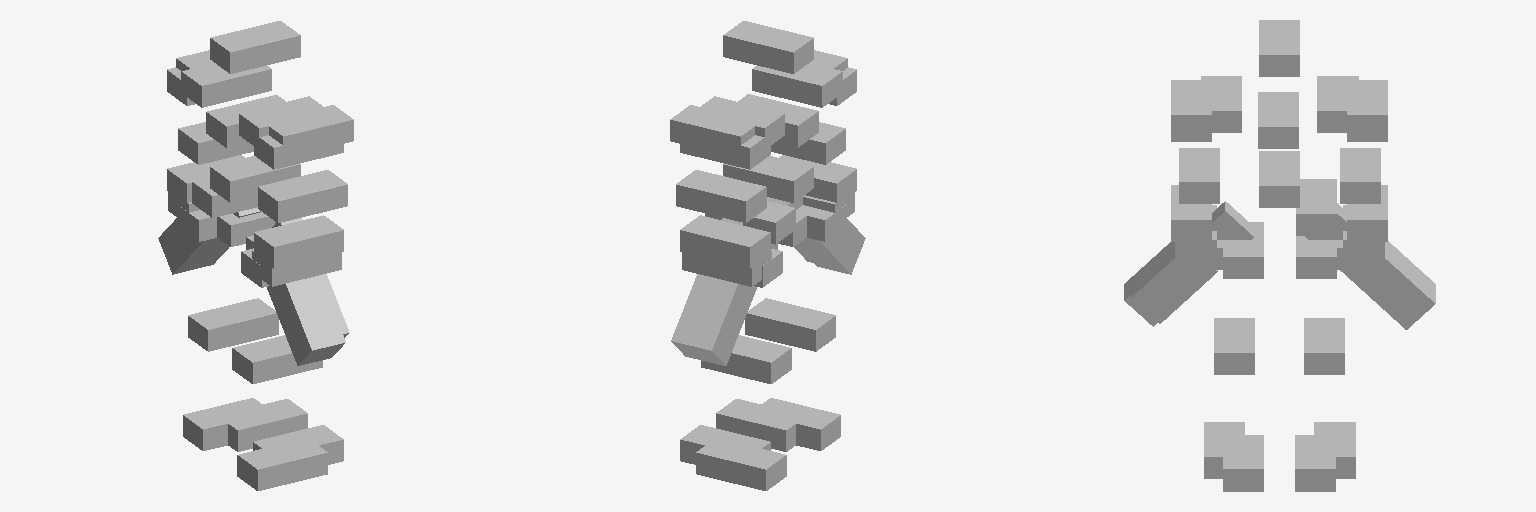
--- Facts derived from the render (not from the file) ---
The picture shows the robot from 3 angles, left to right: view 1: azimuth 30°, elevation 25°; view 2: azimuth 150°, elevation 25°; view 3: azimuth 270°, elevation 25°; orthographic projection.
Robot: huboplus — 61 links, 60 joints (57 revolute, 1 continuous, 2 fixed); root link World; default pose: every joint at zero.
Links seen in each view (by area): view 1: Body_HNP, Body_RAP, Body_LKP, Body_RWY, Body_REP, Body_LSP, Body_RKP, Body_Hip, Body_LAP, Body_LAR, Body_RSR, Body_RSY (+17 smaller); view 2: Body_LWY, Body_HNP, Body_LEP, Body_RKP, Body_LAP, Body_LSR, Body_RAR, Body_RSP, Body_LKP, Body_Hip, Body_RAP, Body_LSP (+17 smaller); view 3: rightIndexMedial, Body_Torso, Body_HNP, Body_Hip, Body_LKP, Body_RKP, Body_LEP, Body_REP, leftIndexProximal, Body_LHY, Body_RSR, Body_LSR (+15 smaller).
Boxes of the visible links, box(x1,y1,x2,y2) form: Body_HNP: box(210, 21, 300, 73); Body_RAP: box(237, 438, 327, 490); Body_LKP: box(188, 298, 278, 351); Body_RWY: box(254, 215, 343, 268); Body_REP: box(258, 170, 347, 222); Body_LSP: box(181, 66, 271, 107); Body_RKP: box(232, 335, 322, 383); Body_Hip: box(210, 156, 300, 202); Body_LAP: box(183, 398, 273, 450); Body_LAR: box(228, 399, 307, 451); Body_RSR: box(265, 105, 353, 155); Body_RSY: box(254, 131, 343, 169); Body_LWY: box(680, 215, 770, 268); Body_HNP: box(723, 21, 813, 73); Body_LEP: box(676, 170, 766, 222); Body_RKP: box(745, 298, 835, 351); Body_LAP: box(696, 438, 786, 490); Body_LSR: box(670, 105, 754, 157); Body_RAR: box(716, 399, 804, 451); Body_RSP: box(752, 66, 842, 107); Body_LKP: box(701, 335, 791, 383); Body_Hip: box(723, 156, 813, 202); Body_RAP: box(752, 398, 840, 450); Body_LSP: box(695, 96, 784, 149); rightIndexMedial: box(1131, 255, 1217, 323); Body_Torso: box(1258, 92, 1298, 148); Body_HNP: box(1259, 20, 1299, 76); Body_Hip: box(1259, 151, 1299, 207); Body_LKP: box(1304, 318, 1344, 374); Body_RKP: box(1214, 318, 1254, 374); Body_LEP: box(1340, 148, 1380, 203); Body_REP: box(1179, 148, 1219, 203); leftIndexProximal: box(1340, 248, 1419, 315); Body_LHY: box(1296, 179, 1336, 235); Body_RSR: box(1171, 80, 1211, 136); Body_LSR: box(1347, 80, 1387, 136).
Bounding box of the posed robot: 0.2834 × 0.7563 × 1.14 m (x, y, z).
Geometry: primitives only (box / cylinder / sphere), no mesh files.

URDF robot description (huboplus):
<?xml version="1.0" encoding="utf-8"?>
<!-- =================================================================================== -->
<!-- |    This document was autogenerated by xacro from huboplus.xacro                 | -->
<!-- |    EDITING THIS FILE BY HAND IS NOT RECOMMENDED                                 | -->
<!-- =================================================================================== -->
<robot name="huboplus">
    <link name="World">
        <inertial>
            <mass value = "0"/>
            <origin xyz = "0 0 0"/>
            <inertia ixx = "0" ixy = "0" ixz = "0" iyy = "0" iyz = "0" izz = "0"/>
        </inertial>
        <visual>
            <geometry>
                <box size="0.001 0.001 0.001" />
            </geometry>
        </visual>
    </link>
    <joint name="W2B" type="continuous">
        <axis xyz="0  0  1"/>
        <origin rpy="0 0 0" xyz="0 0 0"/>
        <parent link="World"/>
        <child link="Body_Torso"/>
    </joint>
  <link name="Body_Torso">
    <inertial>
      <mass value="7.50334"/>
      <inertia ixx="0.102019" ixy="2.45462e-05" ixz="0.00713022" iyy="0.0832724" iyz="-0.00131733" izz="0.086493"/>
      <origin xyz="0 0 0"/>
    </inertial>
    <visual>
      <geometry>
        <!--<mesh filename="meshes_hubo/Body_Torso_vis.stl"/>-->
        <box size="0.2 0.1 0.0591"/>
      </geometry>
      <material name="random">
        <color rgba="0.800000 0.800000 0.800000 1"/>
      </material>
    </visual>
    <!--<collision>-->
      <!--<geometry>-->
        <!--<mesh filename="meshes_hubo/Body_Torso_col.stl"/>-->
      <!--</geometry>-->
    <!--</collision>-->
  </link>
  <link name="Body_HNR">
</link>
  <link name="Body_HNP">
    <inertial>
      <mass value="0.374251"/>
      <inertia ixx="0.00164033" ixy="-1.08171e-07" ixz="-9.53978e-05" iyy="0.00153943" iyz="1.25376e-06" izz="0.00190393"/>
      <origin xyz="0.0106886 -3.00864e-05 0.032123"/>
    </inertial>
    <visual>
      <geometry>
        <box size="0.2 0.1 0.0591"/>
        <!--<mesh filename="meshes_hubo/Body_HNP_vis.stl"/>-->
      </geometry>
      <material name="random">
        <color rgba="0.800000 0.800000 0.800000 1"/>
      </material>
    </visual>
    <!--<collision>-->
      <!--<geometry>-->
        <!--<mesh filename="meshes_hubo/Body_HNP_col.stl"/>-->
      <!--</geometry>-->
    <!--</collision>-->
  </link>
  <link name="Body_LSP">
    <inertial>
      <mass value="0.646655"/>
      <inertia ixx="0.000893731" ixy="-0.000156484" ixz="4.98007e-07" iyy="0.00093016" iyz="1.57095e-07" izz="0.00124323"/>
      <origin xyz="0.0167207 0.0570407 9.91873e-06"/>
    </inertial>
    <visual>
      <geometry>
        <!--<mesh filename="meshes_hubo/Body_LSP_vis.stl"/>-->
        <box size="0.2 0.1 0.0591"/>
      </geometry>
      <material name="random">
        <color rgba="0.800000 0.800000 0.800000 1"/>
      </material>
    </visual>
    <!--<collision>-->
      <!--<geometry>-->
        <!--<mesh filename="meshes_hubo/Body_LSP_col.stl"/>-->
      <!--</geometry>-->
    <!--</collision>-->
  </link>
  <link name="Body_LSR">
    <inertial>
      <mass value="0.413368"/>
      <inertia ixx="0.000269283" ixy="4.52571e-07" ixz="3.23662e-06" iyy="0.00037679" iyz="9.93935e-07" izz="0.000360355"/>
      <origin xyz="-0.036208 -8.31243e-05 -0.00126685"/>
    </inertial>
    <visual>
      <geometry>
        <!--<mesh filename="meshes_hubo/Body_LSR_vis.stl"/>-->
        <box size="0.2 0.1 0.0591"/>
      </geometry>
      <material name="random">
        <color rgba="0.800000 0.800000 0.800000 1"/>
      </material>
    </visual>
    <!--<collision>-->
      <!--<geometry>-->
        <!--<mesh filename="meshes_hubo/Body_LSR_col.stl"/>-->
      <!--</geometry>-->
    <!--</collision>-->
  </link>
  <link name="Body_LSY">
    <inertial>
      <mass value="1.15461"/>
      <inertia ixx="0.00365479" ixy="2.05436e-06" ixz="0.000418448" iyy="0.00364731" iyz="-3.09648e-05" izz="0.00060633"/>
      <origin xyz="0.00456121 3.10576e-05 -0.0907824"/>
    </inertial>
    <visual>
      <geometry>
        <!--<mesh filename="meshes_hubo/Body_LSY_vis.stl"/>-->
        <box size="0.2 0.1 0.0591"/>
      </geometry>
      <material name="random">
        <color rgba="0.800000 0.800000 0.800000 1"/>
      </material>
    </visual>
    <!--<collision>-->
      <!--<geometry>-->
        <!--<mesh filename="meshes_hubo/Body_LSY_col.stl"/>-->
      <!--</geometry>-->
    <!--</collision>-->
  </link>
  <link name="Body_LEP">
    <inertial>
      <mass value="0.44094"/>
      <inertia ixx="0.0005027" ixy="3.64587e-06" ixz="-1.41388e-05" iyy="0.00049415" iyz="7.65528e-06" izz="0.000131786"/>
      <origin xyz="-0.0217349 0.0178314 -0.0610873"/>
    </inertial>
    <visual>
      <geometry>
        <!--<mesh filename="meshes_hubo/Body_LEP_vis.stl"/>-->
        <box size="0.2 0.1 0.0591"/>
      </geometry>
      <material name="random">
        <color rgba="0.800000 0.800000 0.800000 1"/>
      </material>
    </visual>
    <!--<collision>-->
      <!--<geometry>-->
        <!--<mesh filename="meshes_hubo/Body_LEP_col.stl"/>-->
      <!--</geometry>-->
    <!--</collision>-->
  </link>
  <link name="Body_LWY">
    <inertial>
      <mass value="0.537738"/>
      <inertia ixx="0.00063457" ixy="-4.62486e-07" ixz="6.20682e-06" iyy="0.000563918" iyz="3.54044e-05" izz="0.000305422"/>
      <origin xyz="-0.00122019 0.000635233 -0.0238043"/>
    </inertial>
    <visual>
      <geometry>
        <!--<mesh filename="meshes_hubo/Body_LWY_vis.stl"/>-->
        <box size="0.2 0.1 0.0591"/>
      </geometry>
      <material name="random">
        <color rgba="0.800000 0.800000 0.800000 1"/>
      </material>
    </visual>
    <!--<collision>-->
      <!--<geometry>-->
        <!--<mesh filename="meshes_hubo/Body_LWY_col.stl"/>-->
      <!--</geometry>-->
    <!--</collision>-->
  </link>
  <link name="Body_LWP">
    <inertial>
      <mass value="0.164393"/>
      <inertia ixx="9.74327e-05" ixy="-5.22155e-07" ixz="-1.17317e-06" iyy="0.000144494" iyz="9.4927e-06" izz="0.000122681"/>
      <origin xyz="-0.000258199 0.011442 -0.0461472"/>
    </inertial>
    <visual>
      <geometry>
        <!--<mesh filename="meshes_hubo/Body_LWP_vis.stl"/>-->
        <box size="0.2 0.1 0.0591"/>
      </geometry>
      <material name="random">
        <color rgba="0.800000 0.800000 0.800000 1"/>
      </material>
    </visual>
    <!--<collision>-->
      <!--<geometry>-->
        <!--<mesh filename="meshes_hubo/Body_LWP_col.stl"/>-->
      <!--</geometry>-->
    <!--</collision>-->
  </link>
  <link name="leftThumbProximal">
    <inertial>
      <mass value="0.096"/>
      <inertia ixx="2.304e-06" ixy="0" ixz="0" iyy="8.96e-06" iyz="6.85949e-15" izz="9.216e-06"/>
      <origin xyz="0.024 0 0"/>
    </inertial>
    <visual>
      <geometry>
        <!--<mesh filename="meshes_hubo/leftThumbProximal_vis.stl"/>-->
        <box size="0.2 0.1 0.0591"/>
      </geometry>
      <material name="random">
        <color rgba="0.800000 0.800000 0.800000 1"/>
      </material>
    </visual>
    <!--<collision>-->
      <!--<geometry>-->
        <!--<mesh filename="meshes_hubo/leftThumbProximal_vis.stl"/>-->
      <!--</geometry>-->
    <!--</collision>-->
  </link>
  <link name="leftThumbMedial">
    <inertial>
      <mass value="0.048"/>
      <inertia ixx="1.152e-06" ixy="0" ixz="0" iyy="2.59e-06" iyz="3.42975e-15" izz="2.718e-06"/>
      <origin xyz="0.0165 0 0"/>
    </inertial>
    <!--<visual>-->
      <!--<geometry>-->
        <!--<mesh filename="meshes_hubo/leftThumbMedial_vis.stl"/>-->
      <!--</geometry>-->
      <!--<material name="random">-->
        <!--<color rgba="0.800000 0.800000 0.800000 1"/>-->
      <!--</material>-->
    <!--</visual>-->
    <!--<collision>-->
      <!--<geometry>-->
        <!--<mesh filename="meshes_hubo/leftThumbMedial_vis.stl"/>-->
      <!--</geometry>-->
    <!--</collision>-->
  </link>
  <link name="leftThumbDistal">
    <inertial>
      <mass value="0.08"/>
      <inertia ixx="1.92e-06" ixy="0" ixz="0" iyy="3.82667e-06" iyz="5.71624e-15" izz="4.04e-06"/>
      <origin xyz="0.015 0 0"/>
    </inertial>
    <visual>
      <geometry>
        <!--<mesh filename="meshes_hubo/leftThumbDistal_vis.stl"/>-->
        <box size="0.2 0.1 0.0591"/>
      </geometry>
      <material name="random">
        <color rgba="0.800000 0.800000 0.800000 1"/>
      </material>
    </visual>
    <!--<collision>-->
      <!--<geometry>-->
        <!--<mesh filename="meshes_hubo/leftThumbDistal_vis.stl"/>-->
      <!--</geometry>-->
    <!--</collision>-->
  </link>
  <link name="leftPinkyProximal">
    <inertial>
      <mass value="0.096"/>
      <inertia ixx="2.304e-06" ixy="0" ixz="0" iyy="8.96e-06" iyz="6.85949e-15" izz="9.216e-06"/>
      <origin xyz="0.024 0 0"/>
    </inertial>
    <visual>
      <geometry>
        <!--<mesh filename="meshes_hubo/leftPinkyProximal_vis.stl"/>-->
        <box size="0.2 0.1 0.0591"/>
      </geometry>
      <material name="random">
        <color rgba="0.800000 0.800000 0.800000 1"/>
      </material>
    </visual>
    <!--<collision>-->
      <!--<geometry>-->
        <!--<mesh filename="meshes_hubo/leftPinkyProximal_vis.stl"/>-->
      <!--</geometry>-->
    <!--</collision>-->
  </link>
  <link name="leftPinkyMedial">
    <inertial>
      <mass value="0.048"/>
      <inertia ixx="1.152e-06" ixy="0" ixz="0" iyy="2.59e-06" iyz="3.42975e-15" izz="2.718e-06"/>
      <origin xyz="0.0165 0 0"/>
    </inertial>
    <visual>
      <geometry>
        <!--<mesh filename="meshes_hubo/leftPinkyMedial_vis.stl"/>-->
        <box size="0.2 0.1 0.0591"/>
      </geometry>
      <material name="random">
        <color rgba="0.800000 0.800000 0.800000 1"/>
      </material>
    </visual>
    <!--<collision>-->
      <!--<geometry>-->
        <!--<mesh filename="meshes_hubo/leftPinkyMedial_vis.stl"/>-->
      <!--</geometry>-->
    <!--</collision>-->
  </link>
  <link name="leftPinkyDistal">
    <inertial>
      <mass value="0.08"/>
      <inertia ixx="1.92e-06" ixy="0" ixz="0" iyy="3.82667e-06" iyz="5.71624e-15" izz="4.04e-06"/>
      <origin xyz="0.015 0 0"/>
    </inertial>
    <visual>
      <geometry>
        <!--<mesh filename="meshes_hubo/leftPinkyDistal_vis.stl"/>-->
        <box size="0.2 0.1 0.0591"/>
      </geometry>
      <material name="random">
        <color rgba="0.800000 0.800000 0.800000 1"/>
      </material>
    </visual>
    <!--<collision>-->
      <!--<geometry>-->
        <!--<mesh filename="meshes_hubo/leftPinkyDistal_vis.stl"/>-->
      <!--</geometry>-->
    <!--</collision>-->
  </link>
  <link name="leftRingProximal">
    <inertial>
      <mass value="0.096"/>
      <inertia ixx="2.304e-06" ixy="0" ixz="0" iyy="8.96e-06" iyz="6.85949e-15" izz="9.216e-06"/>
      <origin xyz="0.024 0 0"/>
    </inertial>
    <visual>
      <geometry>
        <!--<mesh filename="meshes_hubo/leftRingProximal_vis.stl"/>-->
        <box size="0.2 0.1 0.0591"/>
      </geometry>
      <material name="random">
        <color rgba="0.800000 0.800000 0.800000 1"/>
      </material>
    </visual>
    <!--<collision>-->
      <!--<geometry>-->
        <!--<mesh filename="meshes_hubo/leftRingProximal_vis.stl"/>-->
      <!--</geometry>-->
    <!--</collision>-->
  </link>
  <link name="leftRingMedial">
    <inertial>
      <mass value="0.048"/>
      <inertia ixx="1.152e-06" ixy="0" ixz="0" iyy="2.59e-06" iyz="3.42975e-15" izz="2.718e-06"/>
      <origin xyz="0.0165 0 0"/>
    </inertial>
    <visual>
      <geometry>
        <!--<mesh filename="meshes_hubo/leftRingMedial_vis.stl"/>-->
        <box size="0.2 0.1 0.0591"/>
      </geometry>
      <material name="random">
        <color rgba="0.800000 0.800000 0.800000 1"/>
      </material>
    </visual>
    <!--<collision>-->
      <!--<geometry>-->
        <!--<mesh filename="meshes_hubo/leftRingMedial_vis.stl"/>-->
      <!--</geometry>-->
    <!--</collision>-->
  </link>
  <link name="leftRingDistal">
    <inertial>
      <mass value="0.08"/>
      <inertia ixx="1.92e-06" ixy="0" ixz="0" iyy="3.82667e-06" iyz="5.71624e-15" izz="4.04e-06"/>
      <origin xyz="0.015 0 0"/>
    </inertial>
    <visual>
      <geometry>
        <!--<mesh filename="meshes_hubo/leftRingDistal_vis.stl"/>-->
        <box size="0.2 0.1 0.0591"/>
      </geometry>
      <material name="random">
        <color rgba="0.800000 0.800000 0.800000 1"/>
      </material>
    </visual>
    <!--<collision>-->
      <!--<geometry>-->
        <!--<mesh filename="meshes_hubo/leftRingDistal_vis.stl"/>-->
      <!--</geometry>-->
    <!--</collision>-->
  </link>
  <link name="leftMiddleProximal">
    <inertial>
      <mass value="0.096"/>
      <inertia ixx="2.304e-06" ixy="0" ixz="0" iyy="8.96e-06" iyz="6.85949e-15" izz="9.216e-06"/>
      <origin xyz="0.024 0 0"/>
    </inertial>
    <!--<visual>-->
      <!--<geometry>-->
        <!--<mesh filename="meshes_hubo/leftMiddleProximal_vis.stl"/>-->
      <!--</geometry>-->
      <!--<material name="random">-->
        <!--<color rgba="0.800000 0.800000 0.800000 1"/>-->
      <!--</material>-->
    <!--</visual>-->
    <!--<collision>-->
      <!--<geometry>-->
        <!--<mesh filename="meshes_hubo/leftMiddleProximal_vis.stl"/>-->
      <!--</geometry>-->
    <!--</collision>-->
  </link>
  <link name="leftMiddleMedial">
    <inertial>
      <mass value="0.048"/>
      <inertia ixx="1.152e-06" ixy="0" ixz="0" iyy="2.59e-06" iyz="3.42975e-15" izz="2.718e-06"/>
      <origin xyz="0.0165 0 0"/>
    </inertial>
    <visual>
      <geometry>
        <!--<mesh filename="meshes_hubo/leftMiddleMedial_vis.stl"/>-->
        <box size="0.2 0.1 0.0591"/>
      </geometry>
      <material name="random">
        <color rgba="0.800000 0.800000 0.800000 1"/>
      </material>
    </visual>
    <!--<collision>-->
      <!--<geometry>-->
        <!--<mesh filename="meshes_hubo/leftMiddleMedial_vis.stl"/>-->
      <!--</geometry>-->
    <!--</collision>-->
  </link>
  <link name="leftMiddleDistal">
    <inertial>
      <mass value="0.08"/>
      <inertia ixx="1.92e-06" ixy="0" ixz="0" iyy="3.82667e-06" iyz="5.71624e-15" izz="4.04e-06"/>
      <origin xyz="0.015 0 0"/>
    </inertial>
    <visual>
      <geometry>
        <!--<mesh filename="meshes_hubo/leftMiddleDistal_vis.stl"/>-->
        <box size="0.2 0.1 0.0591"/>
      </geometry>
      <material name="random">
        <color rgba="0.800000 0.800000 0.800000 1"/>
      </material>
    </visual>
    <!--<collision>-->
      <!--<geometry>-->
        <!--<mesh filename="meshes_hubo/leftMiddleDistal_vis.stl"/>-->
      <!--</geometry>-->
    <!--</collision>-->
  </link>
  <link name="leftIndexProximal">
    <inertial>
      <mass value="0.096"/>
      <inertia ixx="2.304e-06" ixy="0" ixz="0" iyy="8.96e-06" iyz="6.85949e-15" izz="9.216e-06"/>
      <origin xyz="0.024 0 0"/>
    </inertial>
    <visual>
      <geometry>
        <!--<mesh filename="meshes_hubo/leftIndexProximal_vis.stl"/>-->
        <box size="0.2 0.1 0.0591"/>
      </geometry>
      <material name="random">
        <color rgba="0.800000 0.800000 0.800000 1"/>
      </material>
    </visual>
    <!--<collision>-->
      <!--<geometry>-->
        <!--<mesh filename="meshes_hubo/leftIndexProximal_vis.stl"/>-->
      <!--</geometry>-->
    <!--</collision>-->
  </link>
  <link name="leftIndexMedial">
    <inertial>
      <mass value="0.048"/>
      <inertia ixx="1.152e-06" ixy="0" ixz="0" iyy="2.59e-06" iyz="3.42975e-15" izz="2.718e-06"/>
      <origin xyz="0.0165 0 0"/>
    </inertial>
    <visual>
      <geometry>
        <!--<mesh filename="meshes_hubo/leftIndexMedial_vis.stl"/>-->
        <box size="0.2 0.1 0.0591"/>
      </geometry>
      <material name="random">
        <color rgba="0.800000 0.800000 0.800000 1"/>
      </material>
    </visual>
    <!--<collision>-->
      <!--<geometry>-->
        <!--<mesh filename="meshes_hubo/leftIndexMedial_vis.stl"/>-->
      <!--</geometry>-->
    <!--</collision>-->
  </link>
  <link name="leftIndexDistal">
    <inertial>
      <mass value="0.08"/>
      <inertia ixx="1.92e-06" ixy="0" ixz="0" iyy="3.82667e-06" iyz="5.71624e-15" izz="4.04e-06"/>
      <origin xyz="0.015 0 0"/>
    </inertial>
    <visual>
      <geometry>
        <!--<mesh filename="meshes_hubo/leftIndexDistal_vis.stl"/>-->
        <box size="0.2 0.1 0.0591"/>
      </geometry>
      <material name="random">
        <color rgba="0.800000 0.800000 0.800000 1"/>
      </material>
    </visual>
    <!--<collision>-->
      <!--<geometry>-->
        <!--<mesh filename="meshes_hubo/leftIndexDistal_vis.stl"/>-->
      <!--</geometry>-->
    <!--</collision>-->
  </link>
  <link name="Body_RSP">
    <inertial>
      <mass value="0.646655"/>
      <inertia ixx="0.000893731" ixy="0.000156484" ixz="4.98007e-07" iyy="0.00093016" iyz="-1.57095e-07" izz="0.00124323"/>
      <origin xyz="0.0167207 -0.0570407 9.91873e-06"/>
    </inertial>
    <visual>
      <geometry>
        <!--<mesh filename="meshes_hubo/Body_RSP_vis.stl"/>-->
        <box size="0.2 0.1 0.0591"/>
      </geometry>
      <material name="random">
        <color rgba="0.800000 0.800000 0.800000 1"/>
      </material>
    </visual>
    <!--<collision>-->
      <!--<geometry>-->
        <!--<mesh filename="meshes_hubo/Body_RSP_col.stl"/>-->
      <!--</geometry>-->
    <!--</collision>-->
  </link>
  <link name="Body_RSR">
    <inertial>
      <mass value="0.413368"/>
      <inertia ixx="0.000269283" ixy="-4.52571e-07" ixz="3.23662e-06" iyy="0.00037679" iyz="-9.93935e-07" izz="0.000360355"/>
      <origin xyz="-0.036208 8.31243e-05 -0.00126685"/>
    </inertial>
    <visual>
      <geometry>
        <!--<mesh filename="meshes_hubo/Body_RSR_vis.stl"/>-->
        <box size="0.2 0.1 0.0591"/>
      </geometry>
      <material name="random">
        <color rgba="0.800000 0.800000 0.800000 1"/>
      </material>
    </visual>
    <!--<collision>-->
      <!--<geometry>-->
        <!--<mesh filename="meshes_hubo/Body_RSR_col.stl"/>-->
      <!--</geometry>-->
    <!--</collision>-->
  </link>
  <link name="Body_RSY">
    <inertial>
      <mass value="1.15461"/>
      <inertia ixx="0.00365479" ixy="-2.05436e-06" ixz="0.000418448" iyy="0.00364731" iyz="3.09648e-05" izz="0.00060633"/>
      <origin xyz="0.00456121 -3.10576e-05 -0.0907824"/>
    </inertial>
    <visual>
      <geometry>
        <!--<mesh filename="meshes_hubo/Body_RSY_vis.stl"/>-->
        <box size="0.2 0.1 0.0591"/>
      </geometry>
      <material name="random">
        <color rgba="0.800000 0.800000 0.800000 1"/>
      </material>
    </visual>
    <!--<collision>-->
      <!--<geometry>-->
        <!--<mesh filename="meshes_hubo/Body_RSY_col.stl"/>-->
      <!--</geometry>-->
    <!--</collision>-->
  </link>
  <link name="Body_REP">
    <inertial>
      <mass value="0.44094"/>
      <inertia ixx="0.0005027" ixy="-3.64587e-06" ixz="-1.41388e-05" iyy="0.00049415" iyz="-7.65528e-06" izz="0.000131786"/>
      <origin xyz="-0.0217349 -0.0178314 -0.0610873"/>
    </inertial>
    <visual>
      <geometry>
        <!--<mesh filename="meshes_hubo/Body_REP_vis.stl"/>-->
        <box size="0.2 0.1 0.0591"/>
      </geometry>
      <material name="random">
        <color rgba="0.800000 0.800000 0.800000 1"/>
      </material>
    </visual>
    <!--<collision>-->
      <!--<geometry>-->
        <!--<mesh filename="meshes_hubo/Body_REP_col.stl"/>-->
      <!--</geometry>-->
    <!--</collision>-->
  </link>
  <link name="Body_RWY">
    <inertial>
      <mass value="0.537738"/>
      <inertia ixx="0.00063457" ixy="4.62486e-07" ixz="6.20682e-06" iyy="0.000563918" iyz="-3.54044e-05" izz="0.000305422"/>
      <origin xyz="-0.00122019 -0.000635233 -0.0238043"/>
    </inertial>
    <visual>
      <geometry>
        <!--<mesh filename="meshes_hubo/Body_RWY_vis.stl"/>-->
        <box size="0.2 0.1 0.0591"/>
      </geometry>
      <material name="random">
        <color rgba="0.800000 0.800000 0.800000 1"/>
      </material>
    </visual>
    <!--<collision>-->
      <!--<geometry>-->
        <!--<mesh filename="meshes_hubo/Body_RWY_col.stl"/>-->
      <!--</geometry>-->
    <!--</collision>-->
  </link>
  <link name="Body_RWP">
    <inertial>
      <mass value="0.164393"/>
      <inertia ixx="9.74327e-05" ixy="5.22155e-07" ixz="-1.17317e-06" iyy="0.000144494" iyz="-9.4927e-06" izz="0.000122681"/>
      <origin xyz="-0.000258199 -0.011442 -0.0461472"/>
    </inertial>
    <visual>
      <geometry>
        <!--<mesh filename="meshes_hubo/Body_RWP_vis.stl"/>-->
        <box size="0.2 0.1 0.0591"/>
      </geometry>
      <material name="random">
        <color rgba="0.800000 0.800000 0.800000 1"/>
      </material>
    </visual>
    <!--<collision>-->
      <!--<geometry>-->
        <!--<mesh filename="meshes_hubo/Body_RWP_col.stl"/>-->
      <!--</geometry>-->
    <!--</collision>-->
  </link>
  <link name="rightThumbProximal">
    <inertial>
      <mass value="0.096"/>
      <inertia ixx="2.304e-06" ixy="0" ixz="0" iyy="8.96e-06" iyz="6.85949e-15" izz="9.216e-06"/>
      <origin xyz="0.024 0 0"/>
    </inertial>
    <!--<visual>-->
      <!--<geometry>-->
        <!--<mesh filename="meshes_hubo/rightThumbProximal_vis.stl"/>-->
      <!--</geometry>-->
      <!--<material name="random">-->
        <!--<color rgba="0.800000 0.800000 0.800000 1"/>-->
      <!--</material>-->
    <!--</visual>-->
    <!--<collision>-->
      <!--<geometry>-->
        <!--<mesh filename="meshes_hubo/rightThumbProximal_vis.stl"/>-->
      <!--</geometry>-->
    <!--</collision>-->
  </link>
  <link name="rightThumbMedial">
    <inertial>
      <mass value="0.048"/>
      <inertia ixx="1.152e-06" ixy="0" ixz="0" iyy="2.59e-06" iyz="3.42975e-15" izz="2.718e-06"/>
      <origin xyz="0.0165 0 0"/>
    </inertial>
    <!--<visual>-->
      <!--<geometry>-->
        <!--<mesh filename="meshes_hubo/rightThumbMedial_vis.stl"/>-->
      <!--</geometry>-->
      <!--<material name="random">-->
        <!--<color rgba="0.800000 0.800000 0.800000 1"/>-->
      <!--</material>-->
    <!--</visual>-->
    <!--<collision>-->
      <!--<geometry>-->
        <!--<mesh filename="meshes_hubo/rightThumbMedial_vis.stl"/>-->
      <!--</geometry>-->
    <!--</collision>-->
  </link>
  <link name="rightThumbDistal">
    <inertial>
      <mass value="0.08"/>
      <inertia ixx="1.92e-06" ixy="0" ixz="0" iyy="3.82667e-06" iyz="5.71624e-15" izz="4.04e-06"/>
      <origin xyz="0.015 0 0"/>
    </inertial>
    <visual>
      <geometry>
        <!--<mesh filename="meshes_hubo/rightThumbDistal_vis.stl"/>-->
        <box size="0.2 0.1 0.0591"/>
      </geometry>
      <material name="random">
        <color rgba="0.800000 0.800000 0.800000 1"/>
      </material>
    </visual>
    <!--<collision>-->
      <!--<geometry>-->
        <!--<mesh filename="meshes_hubo/rightThumbDistal_vis.stl"/>-->
      <!--</geometry>-->
    <!--</collision>-->
  </link>
  <link name="rightPinkyProximal">
    <inertial>
      <mass value="0.096"/>
      <inertia ixx="2.304e-06" ixy="0" ixz="0" iyy="8.96e-06" iyz="6.85949e-15" izz="9.216e-06"/>
      <origin xyz="0.024 0 0"/>
    </inertial>
    <visual>
      <geometry>
        <!--<mesh filename="meshes_hubo/rightPinkyProximal_vis.stl"/>-->
        <box size="0.2 0.1 0.0591"/>
      </geometry>
      <material name="random">
        <color rgba="0.800000 0.800000 0.800000 1"/>
      </material>
    </visual>
    <!--<collision>-->
      <!--<geometry>-->
        <!--<mesh filename="meshes_hubo/rightPinkyProximal_vis.stl"/>-->
      <!--</geometry>-->
    <!--</collision>-->
  </link>
  <link name="rightPinkyMedial">
    <inertial>
      <mass value="0.048"/>
      <inertia ixx="1.152e-06" ixy="0" ixz="0" iyy="2.59e-06" iyz="3.42975e-15" izz="2.718e-06"/>
      <origin xyz="0.0165 0 0"/>
    </inertial>
    <visual>
      <geometry>
        <!--<mesh filename="meshes_hubo/rightPinkyMedial_vis.stl"/>-->
        <box size="0.2 0.1 0.0591"/>
      </geometry>
      <material name="random">
        <color rgba="0.800000 0.800000 0.800000 1"/>
      </material>
    </visual>
    <!--<collision>-->
      <!--<geometry>-->
        <!--<mesh filename="meshes_hubo/rightPinkyMedial_vis.stl"/>-->
      <!--</geometry>-->
    <!--</collision>-->
  </link>
  <link name="rightPinkyDistal">
    <inertial>
      <mass value="0.08"/>
      <inertia ixx="1.92e-06" ixy="0" ixz="0" iyy="3.82667e-06" iyz="5.71624e-15" izz="4.04e-06"/>
      <origin xyz="0.015 0 0"/>
    </inertial>
    <visual>
      <geometry>
        <box size="0.2 0.1 0.0591"/>
        <!--<mesh filename="meshes_hubo/rightPinkyDistal_vis.stl"/>-->
      </geometry>
      <material name="random">
        <color rgba="0.800000 0.800000 0.800000 1"/>
      </material>
    </visual>
    <!--<collision>-->
      <!--<geometry>-->
        <!--<mesh filename="meshes_hubo/rightPinkyDistal_vis.stl"/>-->
      <!--</geometry>-->
    <!--</collision>-->
  </link>
  <link name="rightRingProximal">
    <inertial>
      <mass value="0.096"/>
      <inertia ixx="2.304e-06" ixy="0" ixz="0" iyy="8.96e-06" iyz="6.85949e-15" izz="9.216e-06"/>
      <origin xyz="0.024 0 0"/>
    </inertial>
    <!--<visual>-->
      <!--<geometry>-->
        <!--<mesh filename="meshes_hubo/rightRingProximal_vis.stl"/>-->
      <!--</geometry>-->
      <!--<material name="random">-->
        <!--<color rgba="0.800000 0.800000 0.800000 1"/>-->
      <!--</material>-->
    <!--</visual>-->
    <!--<collision>-->
      <!--<geometry>-->
        <!--<mesh filename="meshes_hubo/rightRingProximal_vis.stl"/>-->
      <!--</geometry>-->
    <!--</collision>-->
  </link>
  <link name="rightRingMedial">
    <inertial>
      <mass value="0.048"/>
      <inertia ixx="1.152e-06" ixy="0" ixz="0" iyy="2.59e-06" iyz="3.42975e-15" izz="2.718e-06"/>
      <origin xyz="0.0165 0 0"/>
    </inertial>
    <visual>
      <geometry>
        <!--<mesh filename="meshes_hubo/rightRingMedial_vis.stl"/>-->
        <box size="0.2 0.1 0.0591"/>
      </geometry>
      <material name="random">
        <color rgba="0.800000 0.800000 0.800000 1"/>
      </material>
    </visual>
    <!--<collision>-->
      <!--<geometry>-->
        <!--<mesh filename="meshes_hubo/rightRingMedial_vis.stl"/>-->
      <!--</geometry>-->
    <!--</collision>-->
  </link>
  <link name="rightRingDistal">
    <inertial>
      <mass value="0.08"/>
      <inertia ixx="1.92e-06" ixy="0" ixz="0" iyy="3.82667e-06" iyz="5.71624e-15" izz="4.04e-06"/>
      <origin xyz="0.015 0 0"/>
    </inertial>
    <visual>
      <geometry>
        <!--<mesh filename="meshes_hubo/rightRingDistal_vis.stl"/>-->
        <box size="0.2 0.1 0.0591"/>
      </geometry>
      <material name="random">
        <color rgba="0.800000 0.800000 0.800000 1"/>
      </material>
    </visual>
    <!--<collision>-->
      <!--<geometry>-->
        <!--<mesh filename="meshes_hubo/rightRingDistal_vis.stl"/>-->
      <!--</geometry>-->
    <!--</collision>-->
  </link>
  <link name="rightMiddleProximal">
    <inertial>
      <mass value="0.096"/>
      <inertia ixx="2.304e-06" ixy="0" ixz="0" iyy="8.96e-06" iyz="6.85949e-15" izz="9.216e-06"/>
      <origin xyz="0.024 0 0"/>
    </inertial>
    <visual>
      <geometry>
        <!--<mesh filename="meshes_hubo/rightMiddleProximal_vis.stl"/>-->
        <box size="0.2 0.1 0.0591"/>
      </geometry>
      <material name="random">
        <color rgba="0.800000 0.800000 0.800000 1"/>
      </material>
    </visual>
    <!--<collision>-->
      <!--<geometry>-->
        <!--<mesh filename="meshes_hubo/rightMiddleProximal_vis.stl"/>-->
      <!--</geometry>-->
    <!--</collision>-->
  </link>
  <link name="rightMiddleMedial">
    <inertial>
      <mass value="0.048"/>
      <inertia ixx="1.152e-06" ixy="0" ixz="0" iyy="2.59e-06" iyz="3.42975e-15" izz="2.718e-06"/>
      <origin xyz="0.0165 0 0"/>
    </inertial>
    <visual>
      <geometry>
        <!--<mesh filename="meshes_hubo/rightMiddleMedial_vis.stl"/>-->
        <box size="0.2 0.1 0.0591"/>
      </geometry>
      <material name="random">
        <color rgba="0.800000 0.800000 0.800000 1"/>
      </material>
    </visual>
    <!--<collision>-->
      <!--<geometry>-->
        <!--<mesh filename="meshes_hubo/rightMiddleMedial_vis.stl"/>-->
      <!--</geometry>-->
    <!--</collision>-->
  </link>
  <link name="rightMiddleDistal">
    <inertial>
      <mass value="0.08"/>
      <inertia ixx="1.92e-06" ixy="0" ixz="0" iyy="3.82667e-06" iyz="5.71624e-15" izz="4.04e-06"/>
      <origin xyz="0.015 0 0"/>
    </inertial>
    <visual>
      <geometry>
        <!--<mesh filename="meshes_hubo/rightMiddleDistal_vis.stl"/>-->
        <box size="0.2 0.1 0.0591"/>
      </geometry>
      <material name="random">
        <color rgba="0.800000 0.800000 0.800000 1"/>
      </material>
    </visual>
    <!--<collision>-->
      <!--<geometry>-->
        <!--<mesh filename="meshes_hubo/rightMiddleDistal_vis.stl"/>-->
      <!--</geometry>-->
    <!--</collision>-->
  </link>
  <link name="rightIndexProximal">
    <inertial>
      <mass value="0.096"/>
      <inertia ixx="2.304e-06" ixy="0" ixz="0" iyy="8.96e-06" iyz="6.85949e-15" izz="9.216e-06"/>
      <origin xyz="0.024 0 0"/>
    </inertial>
    <!--<visual>-->
      <!--<geometry>-->
        <!--<mesh filename="meshes_hubo/rightIndexProximal_vis.stl"/>-->
      <!--</geometry>-->
      <!--<material name="random">-->
        <!--<color rgba="0.800000 0.800000 0.800000 1"/>-->
      <!--</material>-->
    <!--</visual>-->
    <!--<collision>-->
      <!--<geometry>-->
        <!--<mesh filename="meshes_hubo/rightIndexProximal_vis.stl"/>-->
      <!--</geometry>-->
    <!--</collision>-->
  </link>
  <link name="rightIndexMedial">
    <inertial>
      <mass value="0.048"/>
      <inertia ixx="1.152e-06" ixy="0" ixz="0" iyy="2.59e-06" iyz="3.42975e-15" izz="2.718e-06"/>
      <origin xyz="0.0165 0 0"/>
    </inertial>
    <visual>
      <geometry>
        <!--<mesh filename="meshes_hubo/rightIndexMedial_vis.stl"/>-->
        <box size="0.2 0.1 0.0591"/>
      </geometry>
      <material name="random">
        <color rgba="0.800000 0.800000 0.800000 1"/>
      </material>
    </visual>
    <!--<collision>-->
      <!--<geometry>-->
        <!--<mesh filename="meshes_hubo/rightIndexMedial_vis.stl"/>-->
      <!--</geometry>-->
    <!--</collision>-->
  </link>
  <link name="rightIndexDistal">
    <inertial>
      <mass value="0.08"/>
      <inertia ixx="1.92e-06" ixy="0" ixz="0" iyy="3.82667e-06" iyz="5.71624e-15" izz="4.04e-06"/>
      <origin xyz="0.015 0 0"/>
    </inertial>
    <!--<visual>-->
      <!--<geometry>-->
        <!--<mesh filename="meshes_hubo/rightIndexDistal_vis.stl"/>-->
      <!--</geometry>-->
      <!--<material name="random">-->
        <!--<color rgba="0.800000 0.800000 0.800000 1"/>-->
      <!--</material>-->
    <!--</visual>-->
    <!--<collision>-->
      <!--<geometry>-->
        <!--<mesh filename="meshes_hubo/rightIndexDistal_vis.stl"/>-->
      <!--</geometry>-->
    <!--</collision>-->
  </link>
  <link name="Body_Hip">
    <inertial>
      <mass value="3.41719"/>
      <inertia ixx="0.0180349" ixy="3.17531e-05" ixz="-0.000513489" iyy="0.00912382" iyz="-6.90617e-05" izz="0.0220514"/>
      <origin xyz="-0.0138504 7.80652e-06 -0.0354613"/>
    </inertial>
    <visual>
      <geometry>
        <!--<mesh filename="meshes_hubo/Body_Hip_vis.stl"/>-->
        <box size="0.2 0.1 0.0591"/>
      </geometry>
      <material name="random">
        <color rgba="0.800000 0.800000 0.800000 1"/>
      </material>
    </visual>
    <!--<collision>-->
      <!--<geometry>-->
        <!--<mesh filename="meshes_hubo/Body_Hip_col.stl"/>-->
      <!--</geometry>-->
    <!--</collision>-->
  </link>
  <link name="Body_LHY">
    <inertial>
      <mass value="0.826125"/>
      <inertia ixx="0.00151818" ixy="2.13586e-06" ixz="0.000434128" iyy="0.00286333" iyz="-1.57525e-07" izz="0.00211437"/>
      <origin xyz="0.0347065 3.748e-05 -0.0726153"/>
    </inertial>
    <visual>
      <geometry>
        <!--<mesh filename="meshes_hubo/Body_LHY_vis.stl"/>-->
        <box size="0.2 0.1 0.0591"/>
      </geometry>
      <material name="random">
        <color rgba="0.800000 0.800000 0.800000 1"/>
      </material>
    </visual>
    <!--<collision>-->
      <!--<geometry>-->
        <!--<mesh filename="meshes_hubo/Body_LHY_col.stl"/>-->
      <!--</geometry>-->
    <!--</collision>-->
  </link>
  <link name="Body_LHR">
    <inertial>
      <mass value="1.93266"/>
      <inertia ixx="0.00403487" ixy="7.9452e-05" ixz="-0.000125343" iyy="0.00332707" iyz="-0.000551964" izz="0.00317173"/>
      <origin xyz="-0.0497479 0.0125311 -0.0156437"/>
    </inertial>
    <visual>
      <geometry>
        <!--<mesh filename="meshes_hubo/Body_LHR_vis.stl"/>-->
        <box size="0.2 0.1 0.0591"/>
      </geometry>
      <material name="random">
        <color rgba="0.800000 0.800000 0.800000 1"/>
      </material>
    </visual>
    <!--<collision>-->
      <!--<geometry>-->
        <!--<mesh filename="meshes_hubo/Body_LHR_col.stl"/>-->
      <!--</geometry>-->
    <!--</collision>-->
  </link>
  <link name="Body_LHP">
    <inertial>
      <mass value="2.8201"/>
      <inertia ixx="0.0295102" ixy="0.000184399" ixz="-0.000370291" iyy="0.0273771" iyz="0.00065658" izz="0.00838035"/>
      <origin xyz="0.0195049 -0.0595775 -0.175202"/>
    </inertial>
    <visual>
      <geometry>
        <!--<mesh filename="meshes_hubo/Body_LHP_vis.stl"/>-->
        <box size="0.2 0.1 0.0591"/>
      </geometry>
      <material name="random">
        <color rgba="0.800000 0.800000 0.800000 1"/>
      </material>
    </visual>
    <!--<collision>-->
      <!--<geometry>-->
        <!--<mesh filename="meshes_hubo/Body_LHP_col.stl"/>-->
      <!--</geometry>-->
    <!--</collision>-->
  </link>
  <link name="Body_LKP">
    <inertial>
      <mass value="1.80912"/>
      <inertia ixx="0.0232156" ixy="0.000251648" ixz="-0.00129343" iyy="0.0208342" iyz="0.00278068" izz="0.0059204"/>
      <origin xyz="0.0128254 -0.00727567 -0.171431"/>
    </inertial>
    <visual>
      <geometry>
        <!--<mesh filename="meshes_hubo/Body_LKP_vis.stl"/>-->
        <box size="0.2 0.1 0.0591"/>
      </geometry>
      <material name="random">
        <color rgba="0.800000 0.800000 0.800000 1"/>
      </material>
    </visual>
    <!--<collision>-->
      <!--<geometry>-->
        <!--<mesh filename="meshes_hubo/Body_LKP_col.stl"/>-->
      <!--</geometry>-->
    <!--</collision>-->
  </link>
  <link name="Body_LAP">
    <inertial>
      <mass value="1.63501"/>
      <inertia ixx="0.00231659" ixy="1.87402e-05" ixz="0.000369899" iyy="0.00330411" iyz="6.38153e-05" izz="0.00279495"/>
      <origin xyz="0.0198702 -0.0459693 0.0115069"/>
    </inertial>
    <visual>
      <geometry>
        <!--<mesh filename="meshes_hubo/Body_LAP_vis.stl"/>-->
        <box size="0.2 0.1 0.0591"/>
      </geometry>
      <material name="random">
        <color rgba="0.800000 0.800000 0.800000 1"/>
      </material>
    </visual>
    <!--<collision>-->
      <!--<geometry>-->
        <!--<mesh filename="meshes_hubo/Body_LAP_col.stl"/>-->
      <!--</geometry>-->
    <!--</collision>-->
  </link>
  <link name="Body_LAR">
    <inertial>
      <mass value="1.20318"/>
      <inertia ixx="0.00295183" ixy="3.23211e-05" ixz="0.000141769" iyy="0.00524792" iyz="5.95404e-05" izz="0.00516817"/>
      <origin xyz="-0.0515094 0.00216398 -0.0693881"/>
    </inertial>
    <visual>
      <geometry>
        <!--<mesh filename="meshes_hubo/Body_LAR_vis.stl"/>-->
        <box size="0.2 0.1 0.0591"/>
      </geometry>
      <material name="random">
        <color rgba="0.800000 0.800000 0.800000 1"/>
      </material>
    </visual>
    <!--<collision>-->
      <!--<geometry>-->
        <!--<mesh filename="meshes_hubo/Body_LAR_col.stl"/>-->
      <!--</geometry>-->
    <!--</collision>-->
  </link>
  <link name="Body_RHY">
    <inertial>
      <mass value="0.826125"/>
      <inertia ixx="0.00151818" ixy="-2.13586e-06" ixz="0.000434128" iyy="0.00286333" iyz="1.57525e-07" izz="0.00211437"/>
      <origin xyz="0.0347065 -3.748e-05 -0.0726153"/>
    </inertial>
    <!--<visual>-->
      <!--<geometry>-->
        <!--<mesh filename="meshes_hubo/Body_RHY_vis.stl"/>-->
      <!--</geometry>-->
      <!--<material name="random">-->
        <!--<color rgba="0.800000 0.800000 0.800000 1"/>-->
      <!--</material>-->
    <!--</visual>-->
    <!--<collision>-->
      <!--<geometry>-->
        <!--<mesh filename="meshes_hubo/Body_RHY_col.stl"/>-->
      <!--</geometry>-->
    <!--</collision>-->
  </link>
  <link name="Body_RHR">
    <inertial>
      <mass value="1.93266"/>
      <inertia ixx="0.00403487" ixy="-7.9452e-05" ixz="-0.000125343" iyy="0.00332707" iyz="0.000551964" izz="0.00317173"/>
      <origin xyz="-0.0497479 -0.0125311 -0.0156437"/>
    </inertial>
    <visual>
      <geometry>
        <!--<mesh filename="meshes_hubo/Body_RHR_vis.stl"/>-->
        <box size="0.2 0.1 0.0591"/>
      </geometry>
      <material name="random">
        <color rgba="0.800000 0.800000 0.800000 1"/>
      </material>
    </visual>
    <!--<collision>-->
      <!--<geometry>-->
        <!--<mesh filename="meshes_hubo/Body_RHR_col.stl"/>-->
      <!--</geometry>-->
    <!--</collision>-->
  </link>
  <link name="Body_RHP">
    <inertial>
      <mass value="2.8201"/>
      <inertia ixx="0.0295102" ixy="-0.000184399" ixz="-0.000370291" iyy="0.0273771" iyz="-0.00065658" izz="0.00838035"/>
      <origin xyz="0.0195049 0.0595775 -0.175202"/>
    </inertial>
    <visual>
      <geometry>
        <!--<mesh filename="meshes_hubo/Body_RHP_vis.stl"/>-->
        <box size="0.2 0.1 0.0591"/>
      </geometry>
      <material name="random">
        <color rgba="0.800000 0.800000 0.800000 1"/>
      </material>
    </visual>
    <!--<collision>-->
      <!--<geometry>-->
        <!--<mesh filename="meshes_hubo/Body_RHP_col.stl"/>-->
      <!--</geometry>-->
    <!--</collision>-->
  </link>
  <link name="Body_RKP">
    <inertial>
      <mass value="1.80912"/>
      <inertia ixx="0.0232156" ixy="-0.000251648" ixz="-0.00129343" iyy="0.0208342" iyz="-0.00278068" izz="0.0059204"/>
      <origin xyz="0.0128254 0.00727567 -0.171431"/>
    </inertial>
    <visual>
      <geometry>
        <!--<mesh filename="meshes_hubo/Body_RKP_vis.stl"/>-->
        <box size="0.2 0.1 0.0591"/>
      </geometry>
      <material name="random">
        <color rgba="0.800000 0.800000 0.800000 1"/>
      </material>
    </visual>
    <!--<collision>-->
      <!--<geometry>-->
        <!--<mesh filename="meshes_hubo/Body_RKP_col.stl"/>-->
      <!--</geometry>-->
    <!--</collision>-->
  </link>
  <link name="Body_RAP">
    <inertial>
      <mass value="1.63501"/>
      <inertia ixx="0.00231659" ixy="-1.87402e-05" ixz="0.000369899" iyy="0.00330411" iyz="-6.38153e-05" izz="0.00279495"/>
      <origin xyz="0.0198702 0.0459693 0.0115069"/>
    </inertial>
    <visual>
      <geometry>
        <!--<mesh filename="meshes_hubo/Body_RAP_vis.stl"/>-->
        <box size="0.2 0.1 0.0591"/>
      </geometry>
      <material name="random">
        <color rgba="0.800000 0.800000 0.800000 1"/>
      </material>
    </visual>
    <!--<collision>-->
      <!--<geometry>-->
        <!--<mesh filename="meshes_hubo/Body_RAP_col.stl"/>-->
      <!--</geometry>-->
    <!--</collision>-->
  </link>
  <link name="Body_RAR">
    <inertial>
      <mass value="1.20318"/>
      <inertia ixx="0.00295183" ixy="-3.23211e-05" ixz="0.000141769" iyy="0.00524792" iyz="-5.95404e-05" izz="0.00516817"/>
      <origin xyz="-0.0515094 -0.00216398 -0.0693881"/>
    </inertial>
    <visual>
      <geometry>
        <!--<mesh filename="meshes_hubo/Body_RAR_vis.stl"/>-->
        <box size="0.2 0.1 0.0591"/>
      </geometry>
      <material name="random">
        <color rgba="0.800000 0.800000 0.800000 1"/>
      </material>
    </visual>
    <!--<collision>-->
      <!--<geometry>-->
        <!--<mesh filename="meshes_hubo/Body_RAR_col.stl"/>-->
      <!--</geometry>-->
    <!--</collision>-->
  </link>
  <joint name="HNR" type="revolute">
    <origin rpy="0 -0 0" xyz="0.0122581 0.0024526 0.196935"/>
    <parent link="Body_Torso"/>
    <child link="Body_HNR"/>
    <axis xyz="1 0 0"/>
    <limit effort="10.0" lower="-0.523599" upper="0.523599" velocity="1.0"/>
  </joint>
  <joint name="HNP" type="revolute">
    <origin rpy="0 -0 0" xyz="0 0 0"/>
    <parent link="Body_HNR"/>
    <child link="Body_HNP"/>
    <axis xyz="0 1 0"/>
    <limit effort="10.0" lower="-0.523599" upper="0.523599" velocity="1.0"/>
  </joint>
  <joint name="LSP" type="revolute">
    <origin rpy="0 -0 0" xyz="0.0122581 0.143973 0.0486356"/>
    <parent link="Body_Torso"/>
    <child link="Body_LSP"/>
    <axis xyz="0 1 0"/>
    <limit effort="10.0" lower="-3.14158" upper="3.14158" velocity="1.0"/>
  </joint>
  <joint name="LSR" type="revolute">
    <origin rpy="0 -0 0" xyz="0.0269 0.072 0"/>
    <parent link="Body_LSP"/>
    <child link="Body_LSR"/>
    <axis xyz="1 0 0"/>
    <limit effort="10.0" lower="-1.5708" upper="1.5708" velocity="1.0"/>
  </joint>
  <joint name="LSY" type="revolute">
    <origin rpy="0 -0 0" xyz="-0.0269 -0.000166249 -0.0245"/>
    <parent link="Body_LSR"/>
    <child link="Body_LSY"/>
    <axis xyz="0 0 1"/>
    <limit effort="10.0" lower="-3.14158" upper="3.14158" velocity="1.0"/>
  </joint>
  <joint name="LEP" type="revolute">
    <origin rpy="0 -0 0" xyz="0.0219936 -0.018 -0.157505"/>
    <parent link="Body_LSY"/>
    <child link="Body_LEP"/>
    <axis xyz="0 1 0"/>
    <limit effort="10.0" lower="-2.49582" upper="0.0698132" velocity="1.0"/>
  </joint>
  <joint name="LWY" type="revolute">
    <origin rpy="0 -0 0" xyz="-0.0219906 0.018 -0.111408"/>
    <parent link="Body_LEP"/>
    <child link="Body_LWY"/>
    <axis xyz="0 0 1"/>
    <limit effort="10.0" lower="-3.14158" upper="3.14158" velocity="1.0"/>
  </joint>
  <joint name="LWP" type="revolute">
    <origin rpy="0 -0 0" xyz="1.72973e-06 -0.00872953 -0.05255"/>
    <parent link="Body_LWY"/>
    <child link="Body_LWP"/>
    <axis xyz="0 1 0"/>
    <limit effort="10.0" lower="-1.64061" upper="1.01229" velocity="1.0"/>
  </joint>
  <joint name="leftThumbKnuckle1" type="revolute">
    <origin rpy="1.5708 -0.785398 -1.5708" xyz="0.0208959 0.00192069 -0.060952"/>
    <parent link="Body_LWP"/>
    <child link="leftThumbProximal"/>
    <axis xyz="0 0 1"/>
    <limit effort="10.0" lower="-3.14" upper="3.14" velocity="1.0"/>
  </joint>
  <joint name="Knuckle29" type="revolute">
    <origin rpy="0 -0 0" xyz="0.032 0 0"/>
    <parent link="leftThumbProximal"/>
    <child link="leftThumbMedial"/>
    <axis xyz="0 0 -1"/>
    <limit effort="10.0" lower="-3.14" upper="3.14" velocity="1.0"/>
  </joint>
  <joint name="Knuckle310" type="revolute">
    <origin rpy="0 -0 0" xyz="0.022 0 0"/>
    <parent link="leftThumbMedial"/>
    <child link="leftThumbDistal"/>
    <axis xyz="0 0 -1"/>
    <limit effort="10.0" lower="-3.14" upper="3.14" velocity="1.0"/>
  </joint>
  <joint name="leftPinkyKnuckle1" type="revolute">
    <origin rpy="1.5708 0.785398 1.5708" xyz="-0.0281041 0.0298617 -0.088883"/>
    <parent link="Body_LWP"/>
    <child link="leftPinkyProximal"/>
    <axis xyz="0 0 1"/>
    <limit effort="10.0" lower="-3.14" upper="3.14" velocity="1.0"/>
  </joint>
  <joint name="Knuckle212" type="revolute">
    <origin rpy="0 -0 0" xyz="0.032 0 0"/>
    <parent link="leftPinkyProximal"/>
    <child link="leftPinkyMedial"/>
    <axis xyz="0 0 -1"/>
    <limit effort="10.0" lower="-3.14" upper="3.14" velocity="1.0"/>
  </joint>
  <joint name="Knuckle313" type="revolute">
    <origin rpy="0 -0 0" xyz="0.022 0 0"/>
    <parent link="leftPinkyMedial"/>
    <child link="leftPinkyDistal"/>
    <axis xyz="0 0 -1"/>
    <limit effort="10.0" lower="-3.14" upper="3.14" velocity="1.0"/>
  </joint>
  <joint name="leftRingKnuckle1" type="revolute">
    <origin rpy="1.5708 0.785398 1.5708" xyz="-0.00910415 0.0298617 -0.088883"/>
    <parent link="Body_LWP"/>
    <child link="leftRingProximal"/>
    <axis xyz="0 0 1"/>
    <limit effort="10.0" lower="-3.14" upper="3.14" velocity="1.0"/>
  </joint>
  <joint name="Knuckle215" type="revolute">
    <origin rpy="0 -0 0" xyz="0.032 0 0"/>
    <parent link="leftRingProximal"/>
    <child link="leftRingMedial"/>
    <axis xyz="0 0 -1"/>
    <limit effort="10.0" lower="-3.14" upper="3.14" velocity="1.0"/>
  </joint>
  <joint name="Knuckle316" type="revolute">
    <origin rpy="0 -0 0" xyz="0.022 0 0"/>
    <parent link="leftRingMedial"/>
    <child link="leftRingDistal"/>
    <axis xyz="0 0 -1"/>
    <limit effort="10.0" lower="-3.14" upper="3.14" velocity="1.0"/>
  </joint>
  <joint name="leftMiddleKnuckle1" type="revolute">
    <origin rpy="1.5708 0.785398 1.5708" xyz="0.00993585 0.0298617 -0.088883"/>
    <parent link="Body_LWP"/>
    <child link="leftMiddleProximal"/>
    <axis xyz="0 0 1"/>
    <limit effort="10.0" lower="-3.14" upper="3.14" velocity="1.0"/>
  </joint>
  <joint name="Knuckle218" type="revolute">
    <origin rpy="0 -0 0" xyz="0.032 0 0"/>
    <parent link="leftMiddleProximal"/>
    <child link="leftMiddleMedial"/>
    <axis xyz="0 0 -1"/>
    <limit effort="10.0" lower="-3.14" upper="3.14" velocity="1.0"/>
  </joint>
  <joint name="Knuckle319" type="revolute">
    <origin rpy="0 -0 0" xyz="0.022 0 0"/>
    <parent link="leftMiddleMedial"/>
    <child link="leftMiddleDistal"/>
    <axis xyz="0 0 -1"/>
    <limit effort="10.0" lower="-3.14" upper="3.14" velocity="1.0"/>
  </joint>
  <joint name="leftIndexKnuckle1" type="revolute">
    <origin rpy="1.5708 0.785398 1.5708" xyz="0.0289159 0.0298617 -0.088883"/>
    <parent link="Body_LWP"/>
    <child link="leftIndexProximal"/>
    <axis xyz="0 0 1"/>
    <limit effort="10.0" lower="-3.14" upper="3.14" velocity="1.0"/>
  </joint>
  <joint name="Knuckle221" type="revolute">
    <origin rpy="0 -0 0" xyz="0.032 0 0"/>
    <parent link="leftIndexProximal"/>
    <child link="leftIndexMedial"/>
    <axis xyz="0 0 -1"/>
    <limit effort="10.0" lower="-3.14" upper="3.14" velocity="1.0"/>
  </joint>
  <joint name="Knuckle322" type="revolute">
    <origin rpy="0 -0 0" xyz="0.022 0 0"/>
    <parent link="leftIndexMedial"/>
    <child link="leftIndexDistal"/>
    <axis xyz="0 0 -1"/>
    <limit effort="10.0" lower="-3.14" upper="3.14" velocity="1.0"/>
  </joint>
  <joint name="RSP" type="revolute">
    <origin rpy="0 -0 0" xyz="0.0122581 -0.139027 0.0486356"/>
    <parent link="Body_Torso"/>
    <child link="Body_RSP"/>
    <axis xyz="0 1 0"/>
    <limit effort="10.0" lower="-3.14158" upper="3.14158" velocity="1.0"/>
  </joint>
  <joint name="RSR" type="revolute">
    <origin rpy="0 -0 0" xyz="0.0269 -0.072 0"/>
    <parent link="Body_RSP"/>
    <child link="Body_RSR"/>
    <axis xyz="1 0 0"/>
    <limit effort="10.0" lower="-1.5708" upper="1.5708" velocity="1.0"/>
  </joint>
  <joint name="RSY" type="revolute">
    <origin rpy="0 -0 0" xyz="-0.0269 0 -0.0245"/>
    <parent link="Body_RSR"/>
    <child link="Body_RSY"/>
    <axis xyz="0 0 1"/>
    <limit effort="10.0" lower="-3.14158" upper="3.14158" velocity="1.0"/>
  </joint>
  <joint name="REP" type="revolute">
    <origin rpy="0 -0 0" xyz="0.0219936 0.018 -0.157505"/>
    <parent link="Body_RSY"/>
    <child link="Body_REP"/>
    <axis xyz="0 1 0"/>
    <limit effort="10.0" lower="-2.49582" upper="0.0698132" velocity="1.0"/>
  </joint>
  <joint name="RWY" type="revolute">
    <origin rpy="0 -0 0" xyz="-0.0219906 -0.018 -0.111408"/>
    <parent link="Body_REP"/>
    <child link="Body_RWY"/>
    <axis xyz="0 0 1"/>
    <limit effort="10.0" lower="-3.14158" upper="3.14158" velocity="1.0"/>
  </joint>
  <joint name="RWP" type="revolute">
    <origin rpy="0 -0 0" xyz="1.72973e-06 0.01 -0.05255"/>
    <parent link="Body_RWY"/>
    <child link="Body_RWP"/>
    <axis xyz="0 1 0"/>
    <limit effort="10.0" lower="-1.64061" upper="1.01229" velocity="1.0"/>
  </joint>
  <joint name="rightThumbKnuckle1" type="revolute">
    <origin rpy="1.5708 -0.785398 1.5708" xyz="0.0208959 -0.00192069 -0.060952"/>
    <parent link="Body_RWP"/>
    <child link="rightThumbProximal"/>
    <axis xyz="0 0 1"/>
    <limit effort="10.0" lower="-3.14" upper="3.14" velocity="1.0"/>
  </joint>
  <joint name="Knuckle230" type="revolute">
    <origin rpy="0 -0 0" xyz="0.032 0 0"/>
    <parent link="rightThumbProximal"/>
    <child link="rightThumbMedial"/>
    <axis xyz="0 0 -1"/>
    <limit effort="10.0" lower="-3.14" upper="3.14" velocity="1.0"/>
  </joint>
  <joint name="Knuckle331" type="revolute">
    <origin rpy="0 -0 0" xyz="0.022 0 0"/>
    <parent link="rightThumbMedial"/>
    <child link="rightThumbDistal"/>
    <axis xyz="0 0 -1"/>
    <limit effort="10.0" lower="-3.14" upper="3.14" velocity="1.0"/>
  </joint>
  <joint name="rightPinkyKnuckle1" type="revolute">
    <origin rpy="1.5708 0.785398 -1.5708" xyz="-0.0281041 -0.0298617 -0.088883"/>
    <parent link="Body_RWP"/>
    <child link="rightPinkyProximal"/>
    <axis xyz="0 0 1"/>
    <limit effort="10.0" lower="-3.14" upper="3.14" velocity="1.0"/>
  </joint>
  <joint name="Knuckle233" type="revolute">
    <origin rpy="0 -0 0" xyz="0.032 0 0"/>
    <parent link="rightPinkyProximal"/>
    <child link="rightPinkyMedial"/>
    <axis xyz="0 0 -1"/>
    <limit effort="10.0" lower="-3.14" upper="3.14" velocity="1.0"/>
  </joint>
  <joint name="Knuckle334" type="revolute">
    <origin rpy="0 -0 0" xyz="0.022 0 0"/>
    <parent link="rightPinkyMedial"/>
    <child link="rightPinkyDistal"/>
    <axis xyz="0 0 -1"/>
    <limit effort="10.0" lower="-3.14" upper="3.14" velocity="1.0"/>
  </joint>
  <joint name="rightRingKnuckle1" type="revolute">
    <origin rpy="1.5708 0.785398 -1.5708" xyz="-0.00910415 -0.0298617 -0.088883"/>
    <parent link="Body_RWP"/>
    <child link="rightRingProximal"/>
    <axis xyz="0 0 1"/>
    <limit effort="10.0" lower="-3.14" upper="3.14" velocity="1.0"/>
  </joint>
  <joint name="Knuckle236" type="revolute">
    <origin rpy="0 -0 0" xyz="0.032 0 0"/>
    <parent link="rightRingProximal"/>
    <child link="rightRingMedial"/>
    <axis xyz="0 0 -1"/>
    <limit effort="10.0" lower="-3.14" upper="3.14" velocity="1.0"/>
  </joint>
  <joint name="Knuckle337" type="revolute">
    <origin rpy="0 -0 0" xyz="0.022 0 0"/>
    <parent link="rightRingMedial"/>
    <child link="rightRingDistal"/>
    <axis xyz="0 0 -1"/>
    <limit effort="10.0" lower="-3.14" upper="3.14" velocity="1.0"/>
  </joint>
  <joint name="rightMiddleKnuckle1" type="revolute">
    <origin rpy="1.5708 0.785398 -1.5708" xyz="0.00993585 -0.0298617 -0.088883"/>
    <parent link="Body_RWP"/>
    <child link="rightMiddleProximal"/>
    <axis xyz="0 0 1"/>
    <limit effort="10.0" lower="-3.14" upper="3.14" velocity="1.0"/>
  </joint>
  <joint name="Knuckle239" type="revolute">
    <origin rpy="0 -0 0" xyz="0.032 0 0"/>
    <parent link="rightMiddleProximal"/>
    <child link="rightMiddleMedial"/>
    <axis xyz="0 0 -1"/>
    <limit effort="10.0" lower="-3.14" upper="3.14" velocity="1.0"/>
  </joint>
  <joint name="Knuckle340" type="revolute">
    <origin rpy="0 -0 0" xyz="0.022 0 0"/>
    <parent link="rightMiddleMedial"/>
    <child link="rightMiddleDistal"/>
    <axis xyz="0 0 -1"/>
    <limit effort="10.0" lower="-3.14" upper="3.14" velocity="1.0"/>
  </joint>
  <joint name="rightIndexKnuckle1" type="revolute">
    <origin rpy="1.5708 0.785398 -1.5708" xyz="0.0289159 -0.0298617 -0.088883"/>
    <parent link="Body_RWP"/>
    <child link="rightIndexProximal"/>
    <axis xyz="0 0 1"/>
    <limit effort="10.0" lower="-3.14" upper="3.14" velocity="1.0"/>
  </joint>
  <joint name="Knuckle2" type="revolute">
    <origin rpy="0 -0 0" xyz="0.032 0 0"/>
    <parent link="rightIndexProximal"/>
    <child link="rightIndexMedial"/>
    <axis xyz="0 0 -1"/>
    <limit effort="10.0" lower="-3.14" upper="3.14" velocity="1.0"/>
  </joint>
  <joint name="Knuckle3" type="revolute">
    <origin rpy="0 -0 0" xyz="0.022 0 0"/>
    <parent link="rightIndexMedial"/>
    <child link="rightIndexDistal"/>
    <axis xyz="0 0 -1"/>
    <limit effort="10.0" lower="-3.14" upper="3.14" velocity="1.0"/>
  </joint>
  <joint name="HPY" type="revolute">
    <origin rpy="0 -0 0" xyz="0.0122662 0.00245974 -0.15262"/>
    <parent link="Body_Torso"/>
    <child link="Body_Hip"/>
    <axis xyz="0 0 1"/>
    <limit effort="10.0" lower="-3.14158" upper="3.14158" velocity="1.0"/>
  </joint>
  <joint name="LHY" type="revolute">
    <origin rpy="0 -0 0" xyz="0.000125136 0.0885155 -0.0764689"/>
    <parent link="Body_Hip"/>
    <child link="Body_LHY"/>
    <axis xyz="0 0 1"/>
    <limit effort="10.0" lower="-1.5708" upper="1.5708" velocity="1.0"/>
  </joint>
  <joint name="LHR" type="revolute">
    <origin rpy="0 -0 0" xyz="0.0520001 1.50498e-06 -0.091004"/>
    <parent link="Body_LHY"/>
    <child link="Body_LHR"/>
    <axis xyz="1 0 0"/>
    <limit effort="10.0" lower="-0.488692" upper="0.488692" velocity="1.0"/>
  </joint>
  <joint name="LHP" type="revolute">
    <origin rpy="0 -0 0" xyz="-0.0529074 0.0655748 9.99159e-05"/>
    <parent link="Body_LHR"/>
    <child link="Body_LHP"/>
    <axis xyz="0 1 0"/>
    <limit effort="10.0" lower="-1.48353" upper="1.6057" velocity="1.0"/>
  </joint>
  <joint name="LKP" type="revolute">
    <origin rpy="0 -0 0" xyz="0.000766364 -0.0445011 -0.280007"/>
    <parent link="Body_LHP"/>
    <child link="Body_LKP"/>
    <axis xyz="0 1 0"/>
    <limit effort="10.0" lower="-0.0698132" upper="2.60054" velocity="1.0"/>
  </joint>
  <joint name="LAP" type="revolute">
    <origin rpy="0 -0 0" xyz="7.20248e-06 0.0247555 -0.279942"/>
    <parent link="Body_LKP"/>
    <child link="Body_LAP"/>
    <axis xyz="0 1 0"/>
    <limit effort="10.0" lower="-1.29154" upper="1.69297" velocity="1.0"/>
  </joint>
  <joint name="LAR" type="revolute">
    <origin rpy="0 -0 0" xyz="0.0711787 -0.0466006 -1.04e-10"/>
    <parent link="Body_LAP"/>
    <child link="Body_LAR"/>
    <axis xyz="1 0 0"/>
    <limit effort="10.0" lower="-0.191986" upper="0.191986" velocity="1.0"/>
  </joint>
  <joint name="RHY" type="revolute">
    <origin rpy="0 -0 0" xyz="0.000125136 -0.0884999 -0.0764689"/>
    <parent link="Body_Hip"/>
    <child link="Body_RHY"/>
    <axis xyz="0 0 1"/>
    <limit effort="10.0" lower="-1.5708" upper="1.5708" velocity="1.0"/>
  </joint>
  <joint name="RHR" type="revolute">
    <origin rpy="0 -0 0" xyz="0.0520001 7.3455e-05 -0.091004"/>
    <parent link="Body_RHY"/>
    <child link="Body_RHR"/>
    <axis xyz="1 0 0"/>
    <limit effort="10.0" lower="-0.488692" upper="0.488692" velocity="1.0"/>
  </joint>
  <joint name="RHP" type="revolute">
    <origin rpy="0 -0 0" xyz="-0.0529074 -0.0655748 9.99159e-05"/>
    <parent link="Body_RHR"/>
    <child link="Body_RHP"/>
    <axis xyz="0 1 0"/>
    <limit effort="10.0" lower="-1.48353" upper="1.6057" velocity="1.0"/>
  </joint>
  <joint name="RKP" type="revolute">
    <origin rpy="0 -0 0" xyz="0.000766364 0.0445011 -0.280007"/>
    <parent link="Body_RHP"/>
    <child link="Body_RKP"/>
    <axis xyz="0 1 0"/>
    <limit effort="10.0" lower="-0.0698132" upper="2.60054" velocity="1.0"/>
  </joint>
  <joint name="RAP" type="revolute">
    <origin rpy="0 -0 0" xyz="7.20248e-06 -0.0247555 -0.279942"/>
    <parent link="Body_RKP"/>
    <child link="Body_RAP"/>
    <axis xyz="0 1 0"/>
    <limit effort="10.0" lower="-1.29154" upper="1.69297" velocity="1.0"/>
  </joint>
  <joint name="RAR" type="revolute">
    <origin rpy="0 -0 0" xyz="0.0711787 0.0466006 -1.04e-10"/>
    <parent link="Body_RAP"/>
    <child link="Body_RAR"/>
    <axis xyz="1 0 0"/>
    <limit effort="10.0" lower="-0.191986" upper="0.191986" velocity="1.0"/>
  </joint>
  <joint name="r_foot_contact" type="fixed">
      <origin rpy="0 0 0" xyz="-0.05 0 -0.1"/>
      <axis xyz="0 0 1"/>
      <parent link="Body_RAR"/>
      <child link="r_foot_contact_frame"/>
  </joint>
  <link name="r_foot_contact_frame">
    <inertial>
      <mass value="0.1"/>
      <origin rpy="0 0 0" xyz="0 0 0"/>
      <inertia ixx="8.33333333333e-05" ixy="0.0" ixz="0.0" iyy="8.33333333333e-05" iyz="0.0" izz="0.000125"/>
    </inertial>
  </link>

  <joint name="l_foot_contact" type="fixed">
      <origin rpy="0 0 0" xyz="-0.05 0 -0.1"/>
      <axis xyz="0 0 1"/>
      <parent link="Body_LAR"/>
      <child link="l_foot_contact_frame"/>
  </joint>
  <link name="l_foot_contact_frame">
    <inertial>
      <mass value="0.1"/>
      <origin rpy="0 0 0" xyz="0 0 0"/>
      <inertia ixx="8.33333333333e-05" ixy="0.0" ixz="0.0" iyy="8.33333333333e-05" iyz="0.0" izz="0.000125"/>
    </inertial>
  </link>



</robot>
